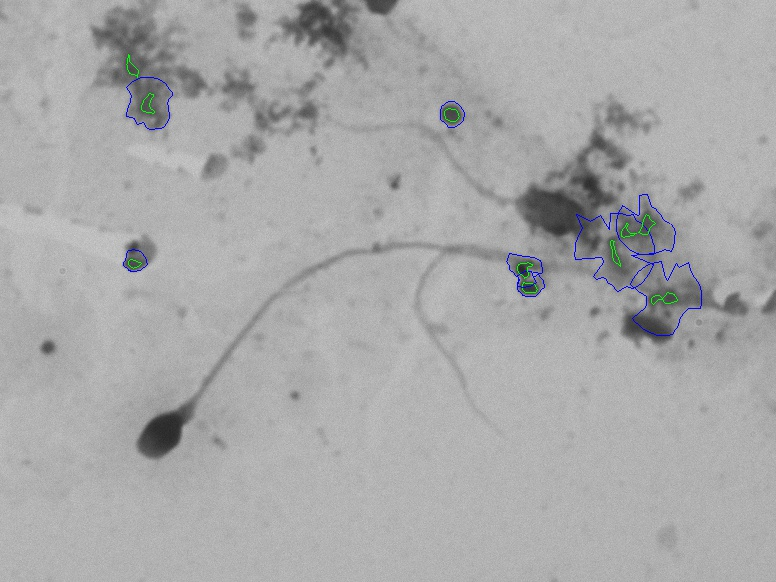Abnormal: (94, 308, 360, 515)
